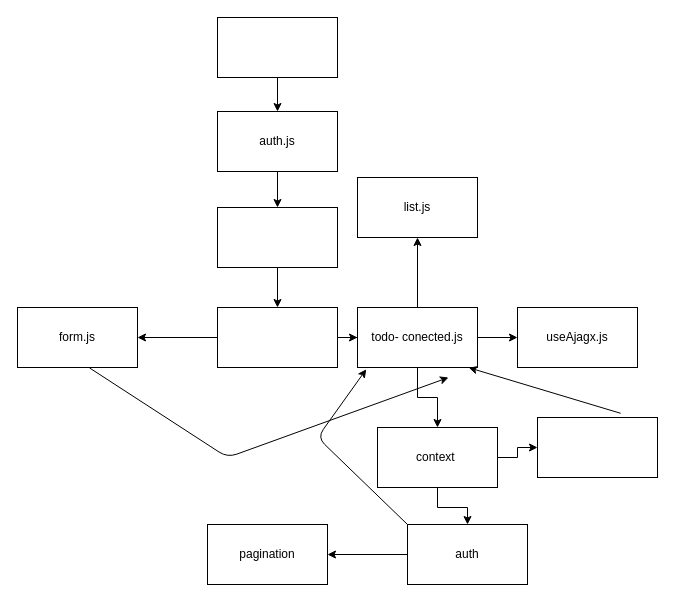
This 675x602 diagram has some shape labels left out. Here are the shapes that lost their labels. From the top down, the centre of each, then its label:
At (277,47): "index.js".
At (277,237): "app.js".
At (277,337): "acl.js".
At (597,447): "complete".
